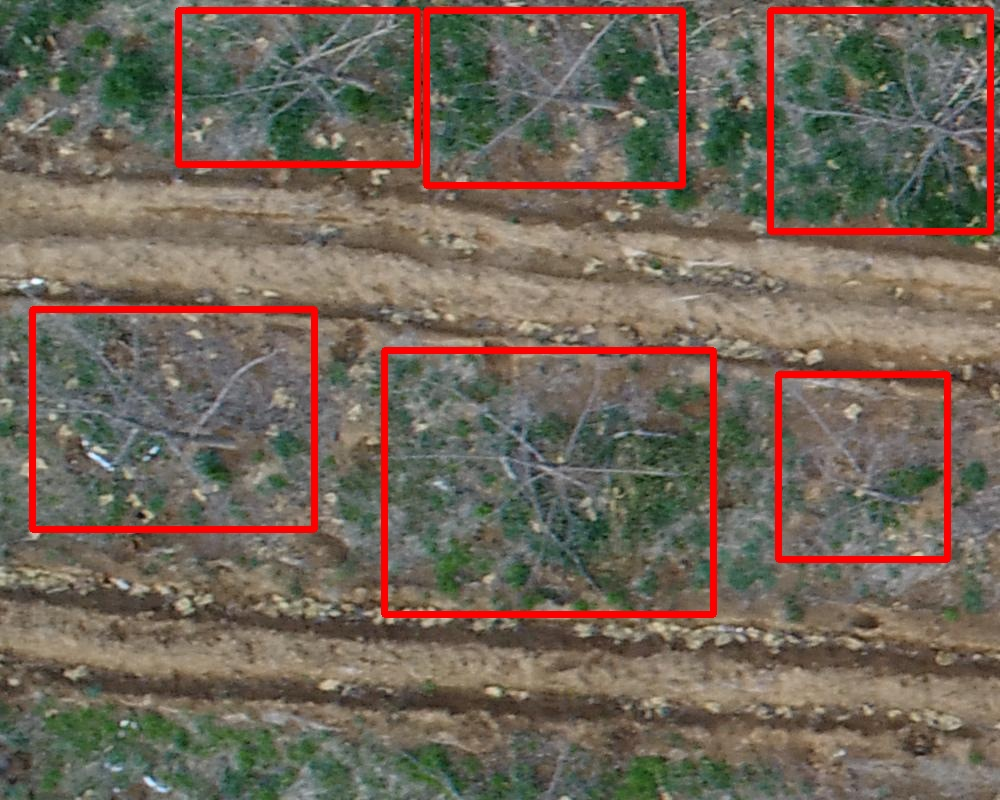apple: (384, 350, 713, 614), (32, 309, 314, 529), (770, 10, 990, 231), (426, 10, 682, 185), (178, 10, 417, 164), (778, 374, 947, 559)
